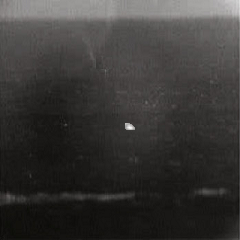Target: (124, 122, 136, 130)
